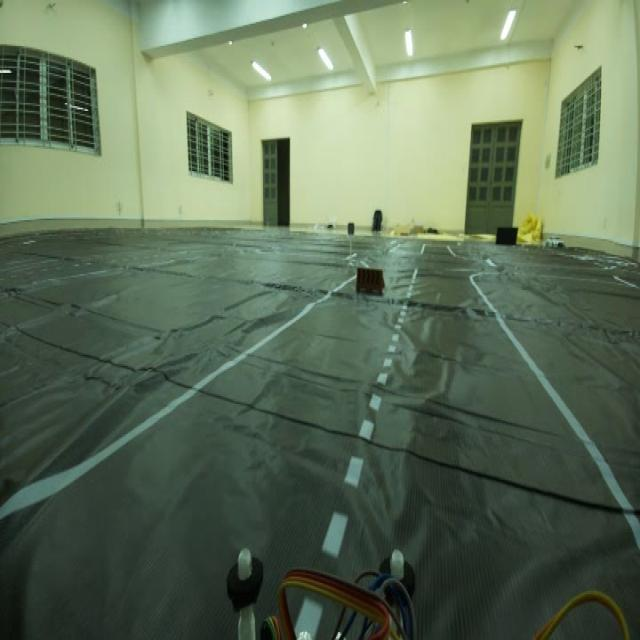roadblock: (352, 259, 392, 307)
